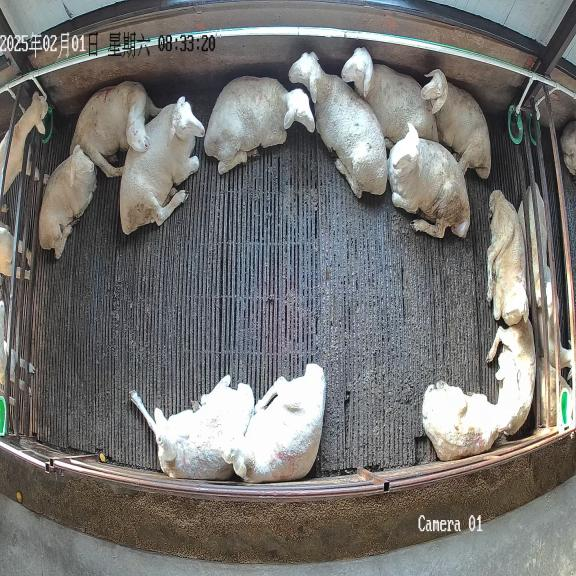lying: (289, 52, 387, 198), (131, 375, 254, 480), (224, 364, 325, 483), (120, 97, 204, 234), (204, 76, 315, 173), (341, 48, 439, 146), (388, 122, 470, 238), (70, 81, 161, 177), (421, 69, 491, 179), (422, 381, 518, 461), (39, 145, 96, 259), (487, 190, 529, 326), (487, 321, 536, 434)
